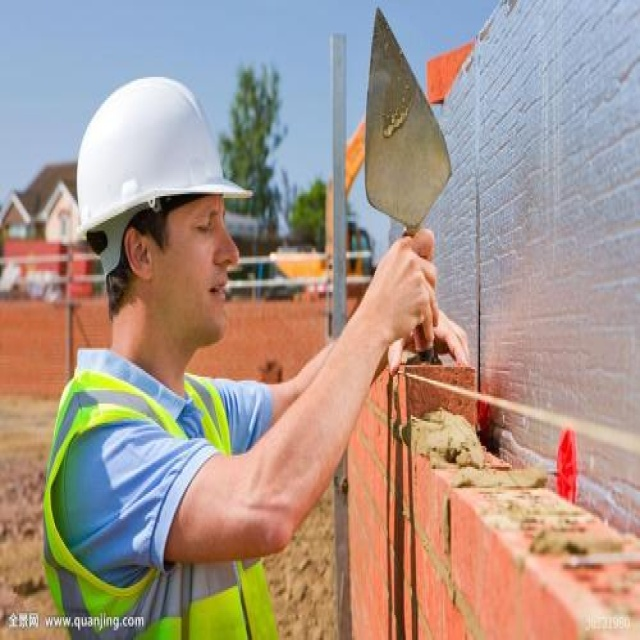Helmet: (54, 58, 266, 386)
Reflective vest: (34, 353, 283, 640)
